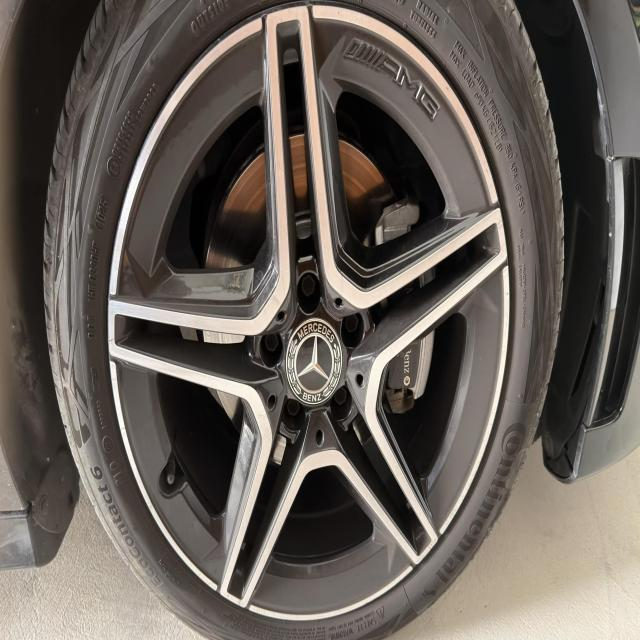jante: (108, 5, 511, 618)
parafuso: (291, 269, 324, 320), (256, 326, 285, 373), (280, 391, 308, 434), (338, 309, 366, 349), (330, 382, 354, 423)
roda: (43, 0, 565, 640)
